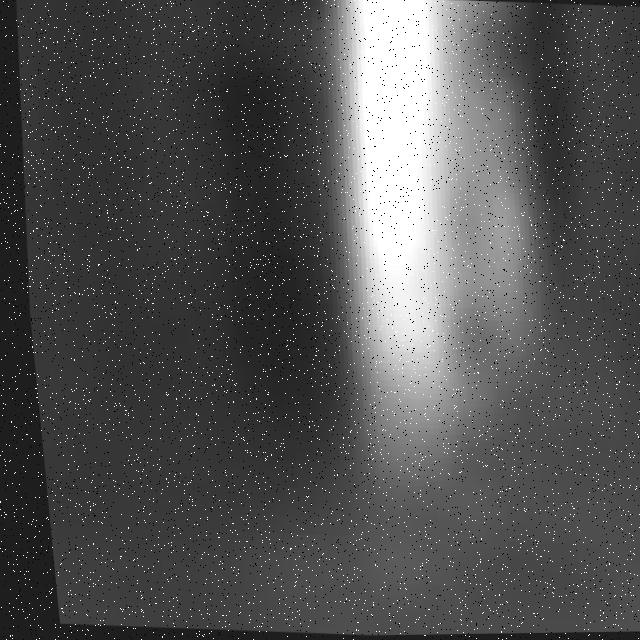person: (304, 1, 579, 496)
